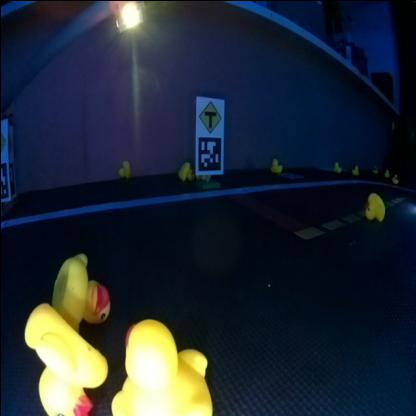Duckie: (110, 317, 208, 409), (23, 302, 99, 412), (54, 251, 108, 321), (364, 192, 384, 219), (177, 160, 193, 178), (116, 160, 130, 176), (271, 156, 280, 172), (332, 160, 340, 170), (352, 163, 358, 173), (382, 167, 388, 176), (370, 164, 376, 172), (391, 174, 397, 182)
Intersection sign: (197, 99, 221, 130)
QR code: (196, 135, 220, 169)
Traffic light: (111, 1, 142, 31)
